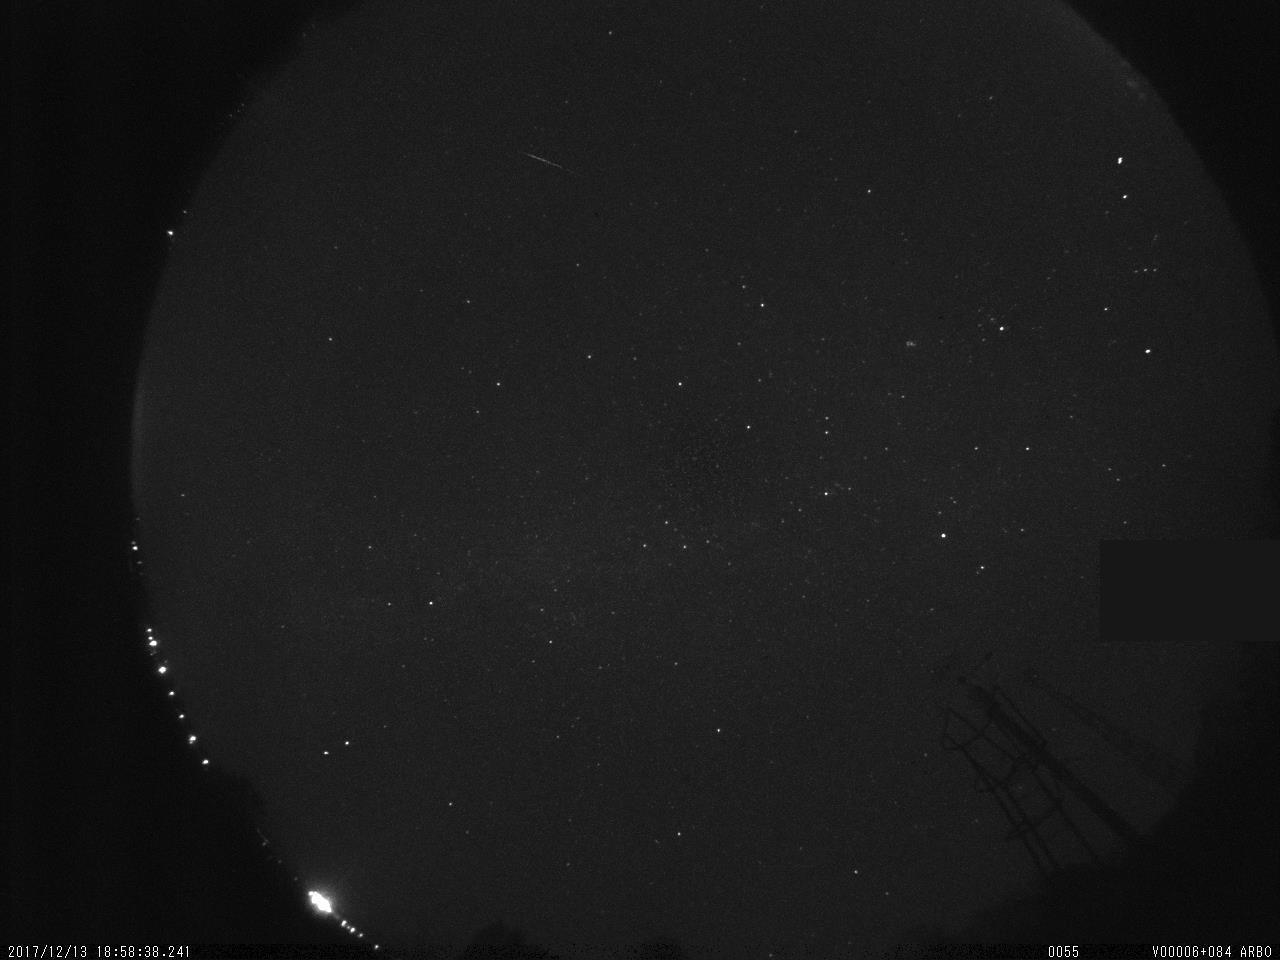Meteor: (518, 146, 581, 180)
